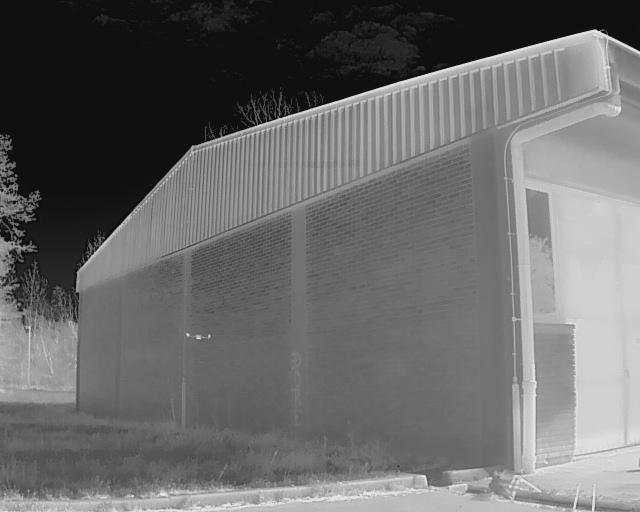drone: (174, 325, 220, 349)
